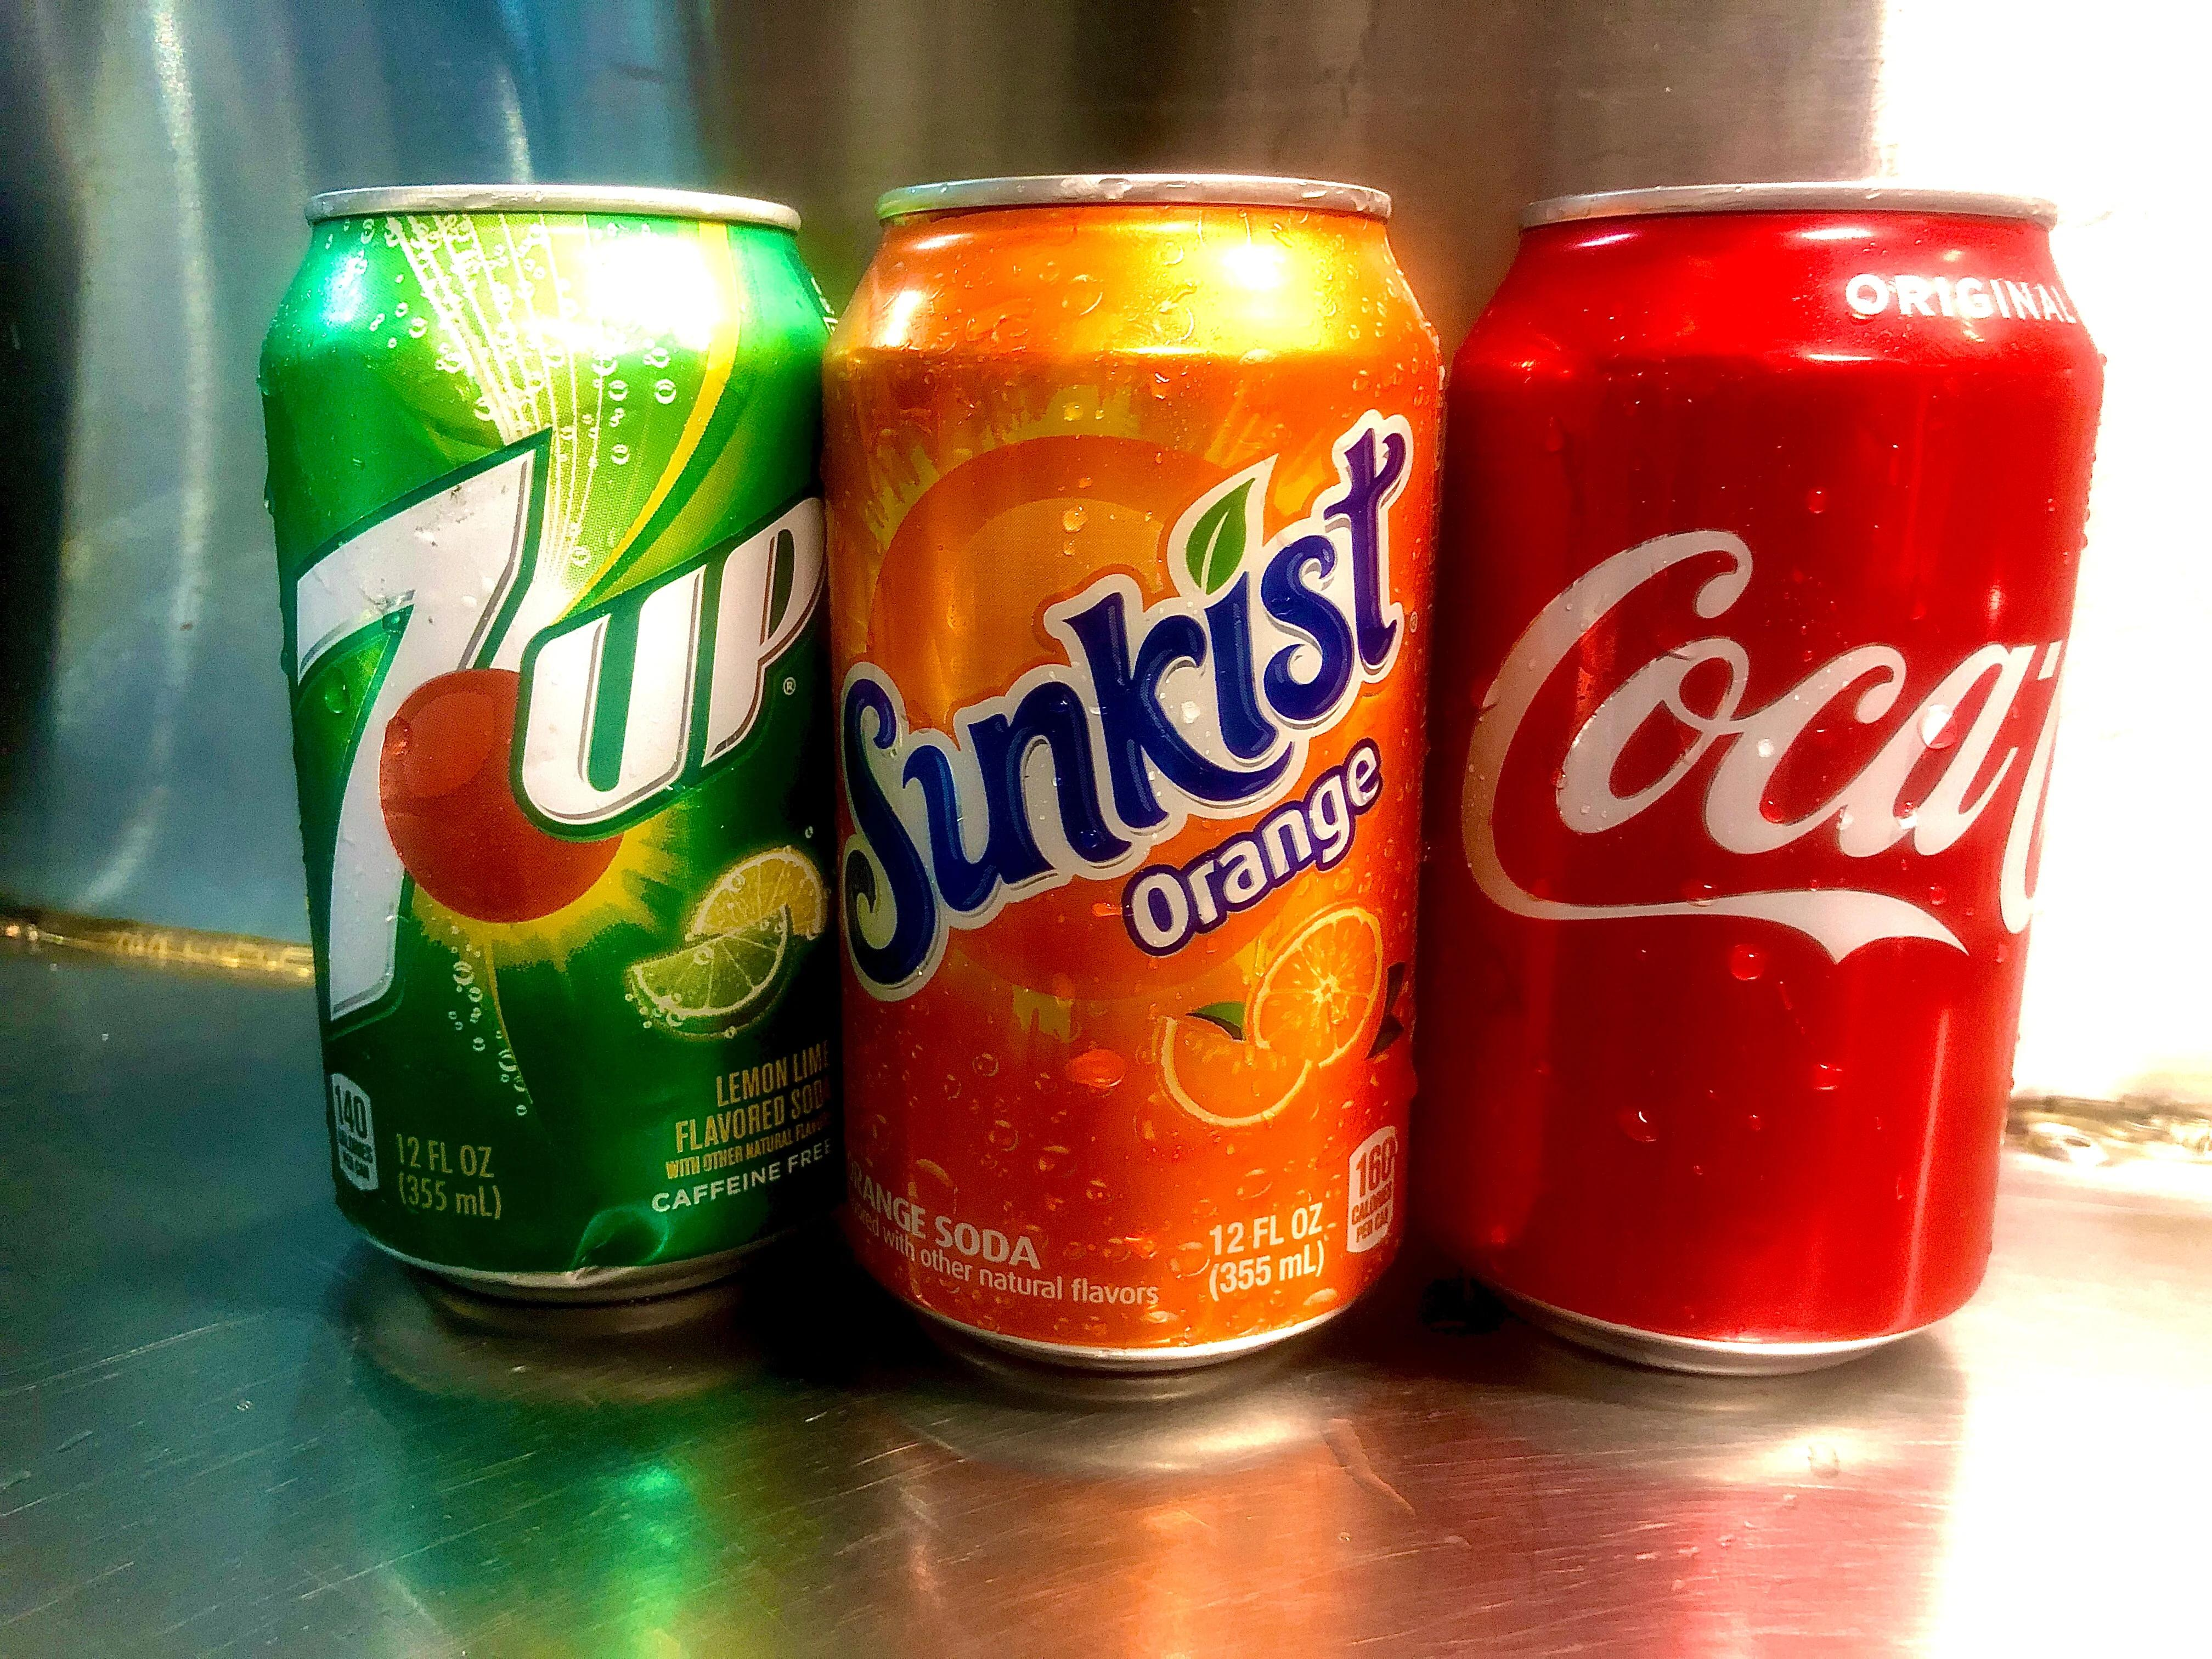can: (1418, 178, 2104, 1377), (826, 174, 1444, 1399), (260, 185, 840, 1331)
